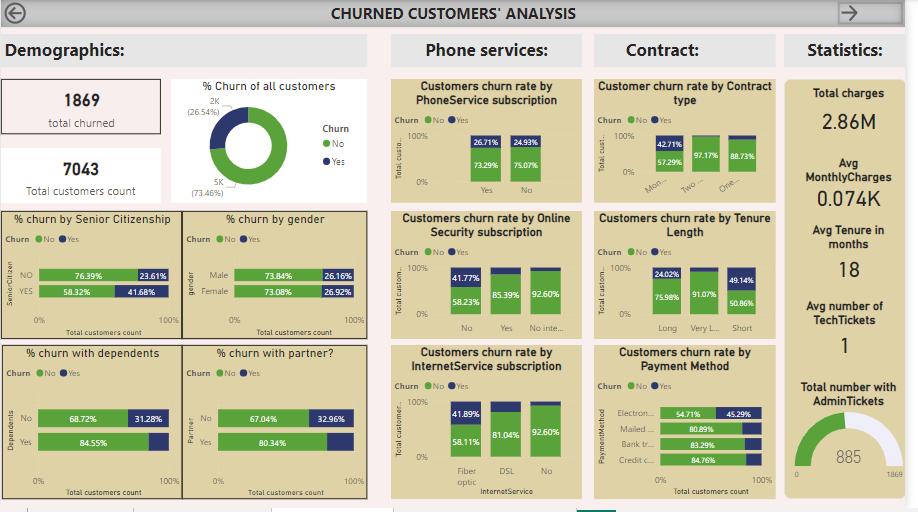

The page's visual inventory and layout, read from the dashboard file:
{"tool":"powerbi","page":{"name":"Churn Analysis","canvas":[1280,720],"ordinal":1},"visuals":[{"type":"card","fields":{"Values":["measures (2).Total customers count"]},"box":[0,210.6,261.5,78.5],"z":0},{"type":"card","fields":{"Values":["measures (2).total churned"]},"box":[0,112.9,261.5,78],"z":1000},{"type":"textbox","box":[0,0,1280,39.9],"z":2000},{"type":"hundredPercentStackedBarChart","title":"% churn by gender","fields":{"Category":["01 Churn-Dataset.gender"],"Series":["01 Churn-Dataset.Churn"],"Y":["measures (2).Total customers count"]},"box":[293.2,300,291.8,180.3],"z":3000},{"type":"textbox","box":[0,49.5,584.9,46.8],"z":4000},{"type":"hundredPercentStackedBarChart","title":"% churn by Senior Citizenship","fields":{"Category":["01 Churn-Dataset.SeniorCitizen"],"Y":["measures (2).Total customers count"],"Series":["01 Churn-Dataset.Churn"]},"box":[0,300,293.2,180.3],"z":5000},{"type":"textbox","box":[618,49.5,283.5,46.8],"z":6000},{"type":"hundredPercentStackedColumnChart","title":"Customers churn rate by PhoneService subscription","fields":{"Category":["01 Churn-Dataset.PhoneService"],"Y":["measures (2).Total customers count"],"Series":["01 Churn-Dataset.Churn"]},"box":[618,112.9,283.5,176.2],"z":7000},{"type":"hundredPercentStackedColumnChart","title":"Customers churn rate by Online Security subscription","fields":{"Category":["01 Churn-Dataset.OnlineSecurity"],"Y":["measures (2).Total customers count"],"Series":["01 Churn-Dataset.Churn"]},"box":[618,300,283.5,180.3],"z":8000},{"type":"hundredPercentStackedColumnChart","title":"Customers churn rate by InternetService subscription","fields":{"Category":["01 Churn-Dataset.InternetService"],"Y":["measures (2).Total customers count"],"Series":["01 Churn-Dataset.Churn"]},"box":[618,490,283.5,217.5],"z":9000},{"type":"textbox","box":[912.5,49.5,293.2,46.8],"z":10000},{"type":"donutChart","title":"% Churn of all customers ","fields":{"Category":["01 Churn-Dataset.Churn"],"Y":["measures (2).Total customers count"]},"box":[276.6,112.9,308.3,176.2],"z":11000},{"type":"hundredPercentStackedBarChart","title":"% churn with partner?","fields":{"Series":["01 Churn-Dataset.Churn"],"Y":["measures (2).Total customers count"],"Category":["01 Churn-Dataset.Partner"]},"box":[293.2,490,291.8,217.5],"z":12000},{"type":"hundredPercentStackedBarChart","title":"% churn with dependents","fields":{"Series":["01 Churn-Dataset.Churn"],"Y":["measures (2).Total customers count"],"Category":["01 Churn-Dataset.Dependents"]},"box":[1.4,490,291.8,217.5],"z":13000},{"type":"hundredPercentStackedBarChart","title":"Customers churn rate by Payment Method","fields":{"Category":["01 Churn-Dataset.PaymentMethod"],"Y":["measures (2).Total customers count"],"Series":["01 Churn-Dataset.Churn"]},"box":[922.2,490,283.5,217.5],"z":14000},{"type":"hundredPercentStackedColumnChart","title":"Customers churn rate by Tenure Length","fields":{"Y":["measures (2).Total customers count"],"Series":["01 Churn-Dataset.Churn"],"Category":["01 Churn-Dataset.Tenure Length"]},"box":[922.2,300,283.5,180.3],"z":15000},{"type":"hundredPercentStackedColumnChart","title":"Customer churn rate by Contract type","fields":{"Y":["measures (2).Total customers count"],"Series":["01 Churn-Dataset.Churn"],"Category":["01 Churn-Dataset.Contract"]},"box":[922.2,112.9,283.5,176.2],"z":16000},{"type":"slicer","fields":{"Values":["01 Churn-Dataset.Tenure Length"]},"box":[0,0,293.2,48.9],"z":17000}]}

Visuals, with their boxes in screenshot pixels (x1, y1, x2, y2), scaled from the page's 1280x720 canvas onto the 918x512 screenshot:
card - measures (2).Total customers count: <box>0,150,188,206</box>
card - measures (2).total churned: <box>0,80,188,136</box>
textbox: <box>0,0,917,28</box>
"% churn by gender" hundredPercentStackedBarChart: <box>210,213,420,342</box>
textbox: <box>0,35,419,68</box>
"% churn by Senior Citizenship" hundredPercentStackedBarChart: <box>0,213,210,342</box>
textbox: <box>443,35,647,68</box>
"Customers churn rate by PhoneService subscription" hundredPercentStackedColumnChart: <box>443,80,647,206</box>
"Customers churn rate by Online Security subscription" hundredPercentStackedColumnChart: <box>443,213,647,342</box>
"Customers churn rate by InternetService subscription" hundredPercentStackedColumnChart: <box>443,348,647,503</box>
textbox: <box>654,35,865,68</box>
"% Churn of all customers " donutChart: <box>198,80,419,206</box>
"% churn with partner?" hundredPercentStackedBarChart: <box>210,348,420,503</box>
"% churn with dependents" hundredPercentStackedBarChart: <box>1,348,210,503</box>
"Customers churn rate by Payment Method" hundredPercentStackedBarChart: <box>661,348,865,503</box>
"Customers churn rate by Tenure Length" hundredPercentStackedColumnChart: <box>661,213,865,342</box>
"Customer churn rate by Contract type" hundredPercentStackedColumnChart: <box>661,80,865,206</box>
slicer - 01 Churn-Dataset.Tenure Length: <box>0,0,210,35</box>
